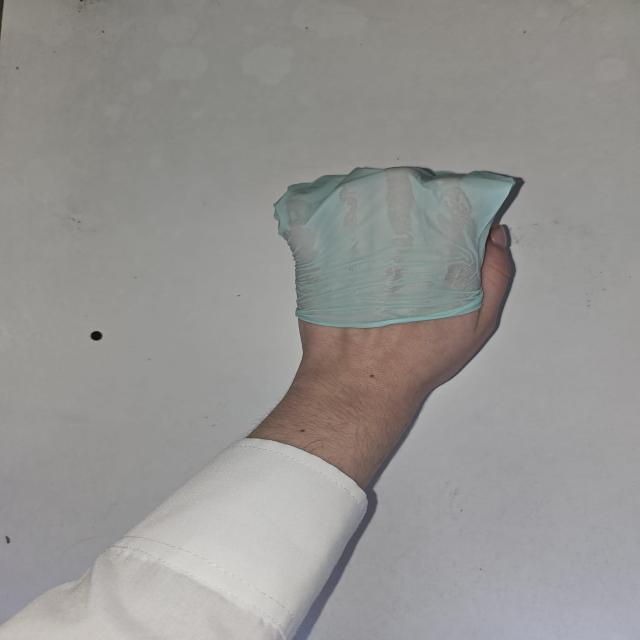glove_partial: (270, 165, 525, 381)
